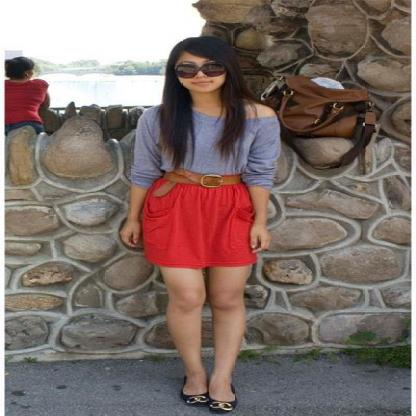shirt: (127, 104, 280, 189)
shoe: (187, 391, 229, 413)
skirt: (141, 183, 259, 269)
sunglass: (165, 58, 225, 81)
